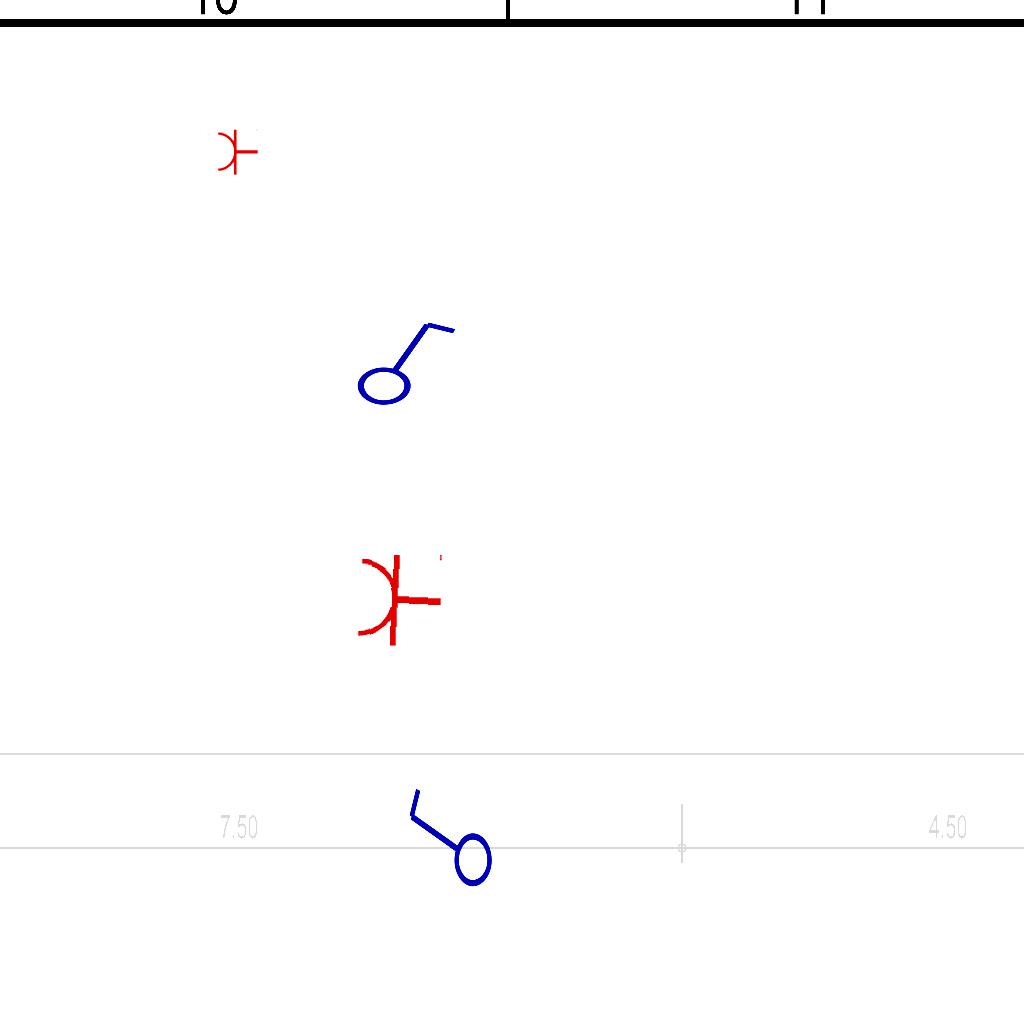Ausschalter: (346, 312, 458, 408), (399, 786, 495, 898)
Schukosteckdose_einfach: (353, 545, 446, 651), (216, 126, 259, 176)
